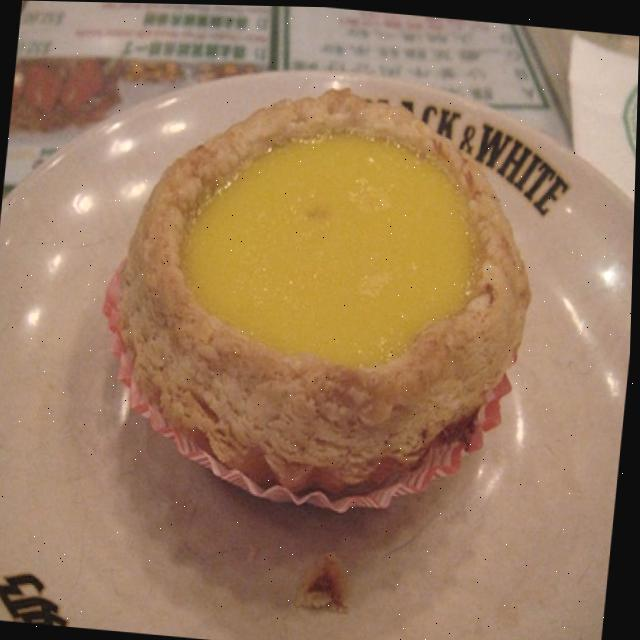炸货点心: (83, 68, 555, 529)
蛋糕甜品: (83, 68, 555, 529)
